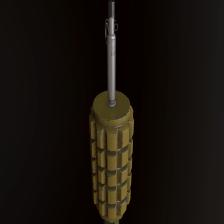POMZ2: (87, 0, 154, 224)
